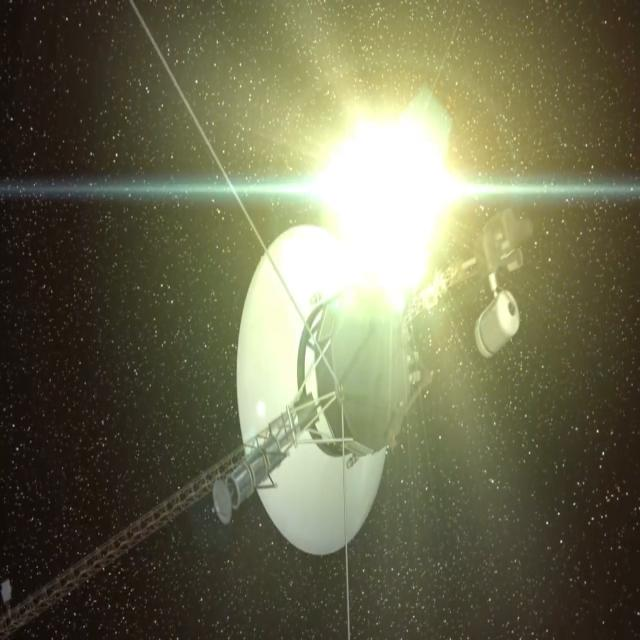medium_debris: (8, 1, 543, 640)
